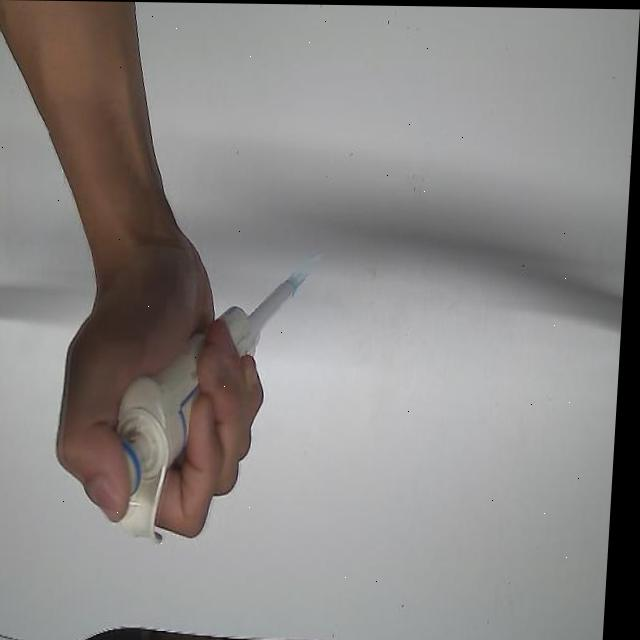Single Channel Pipettor: (112, 267, 308, 545)
